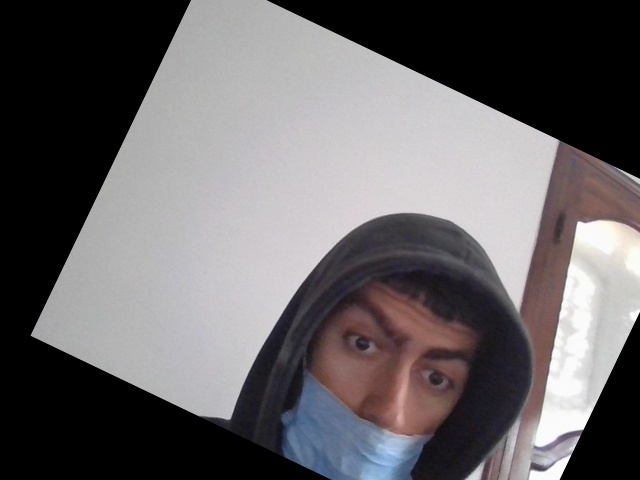mask_weared_incorrect: (268, 238, 487, 479)
